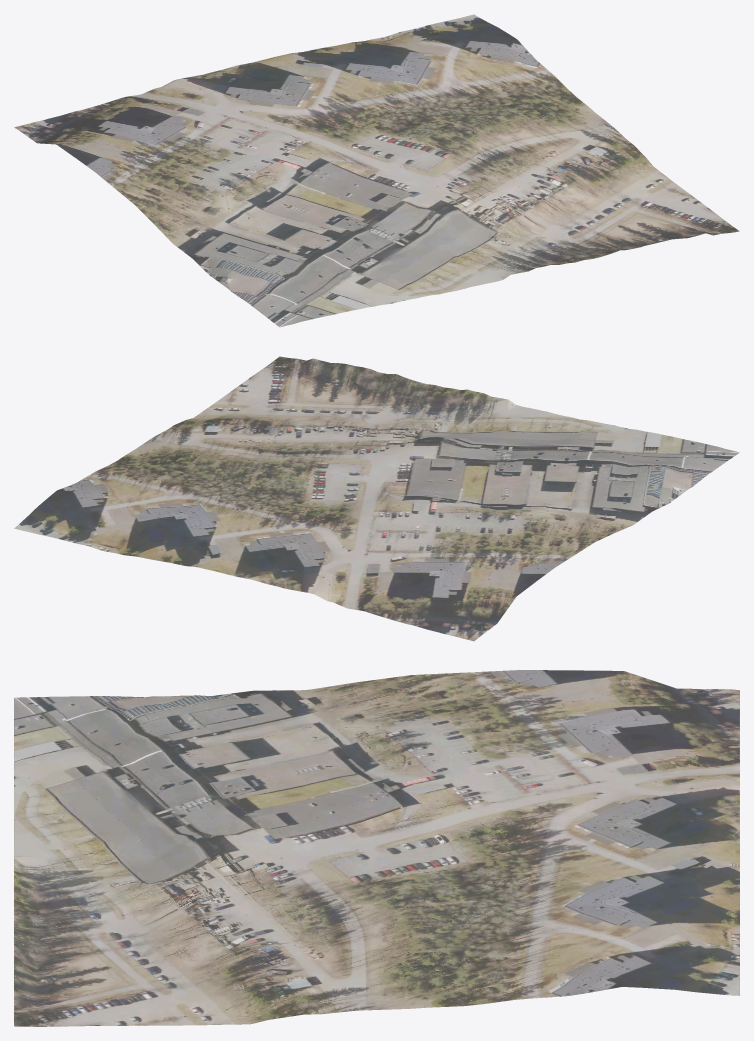
The model's file is CM_Terrain_24492506_6815698.fbx.
3 renders of one model, top to bottom at view 1: azimuth 30°, elevation 25°; view 2: azimuth 150°, elevation 25°; view 3: azimuth 270°, elevation 25°, orthographic. The views are drawn at different scales.
Parts seen in each view (by area): view 1: CM_Terrain_24492506_6815698_LOD0; view 2: CM_Terrain_24492506_6815698_LOD0; view 3: CM_Terrain_24492506_6815698_LOD0.
Boxes of the visible parts, x1,y1,x2,y2 form: CM_Terrain_24492506_6815698_LOD0: (14,14,739,327); CM_Terrain_24492506_6815698_LOD0: (14,356,739,641); CM_Terrain_24492506_6815698_LOD0: (14,670,739,1026).
Size of what is drawn, in the model's own units: 205 by 15.57 by 205.
